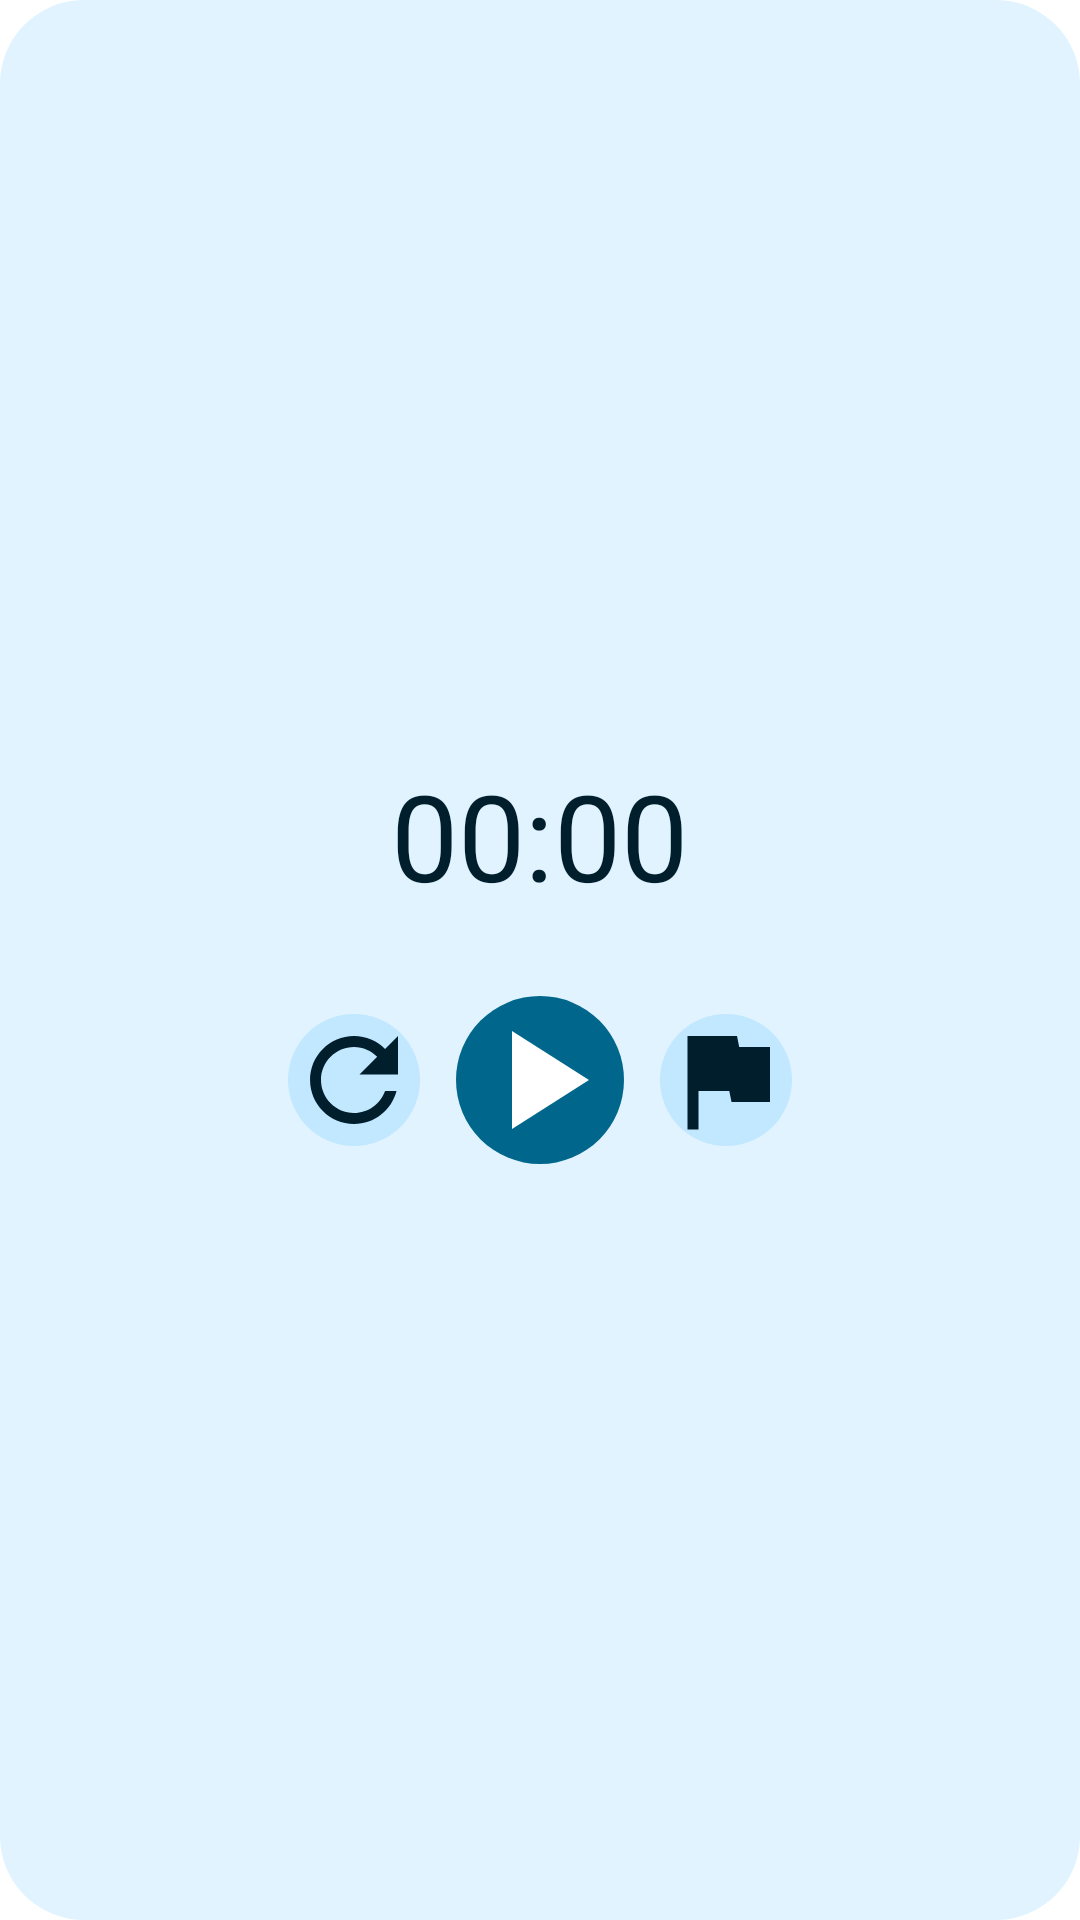

Where to tap for icons on this 1080px×1920px app screen, as (x=x, y=y):
Lap: (x=726, y=1080)
Reset: (x=354, y=1080)
widget play: (x=540, y=1080)
